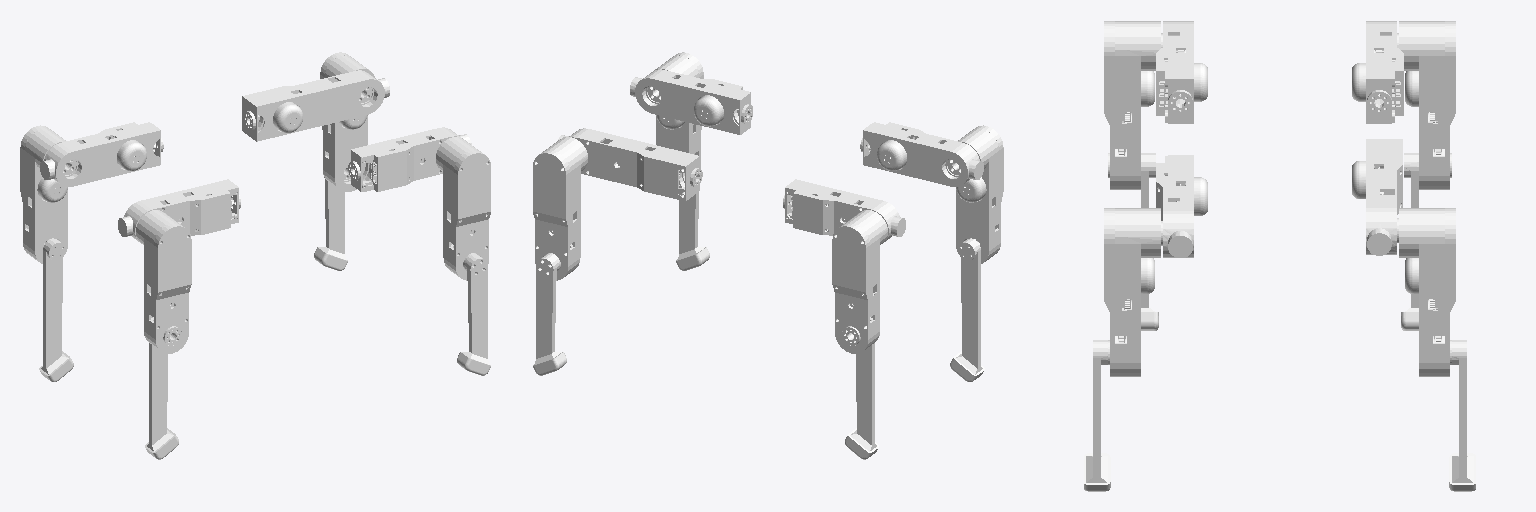
robot.urdf — quad:
<?xml version="1.0" encoding="utf-8"?>
<!-- This URDF was automatically created by SolidWorks to URDF Exporter! Originally created by Stephen Brawner (brawner@gmail.com) 
     Commit Version: 1.6.0-4-g7f85cfe  Build Version: 1.6.7995.38578
     For more information, please see http://wiki.ros.org/sw_urdf_exporter -->
<robot
  name="quad">
  <link
    name="body">
    <inertial>
      <origin
        xyz="0.0119136125020121 -0.0446594666650345 0.0624999999996797"
        rpy="0 0 0" />
      <mass
        value="2.38478530150357" />
      <inertia
        ixx="0.00598681030721035"
        ixy="2.63434309472512E-05"
        ixz="-9.01980987549905E-05"
        iyy="0.00728291695959716"
        iyz="-1.82080520289269E-17"
        izz="0.00302670062029109" />
    </inertial>
    <visual>
      <origin
        xyz="0 0 0"
        rpy="0 0 0" />
      <geometry>
        <mesh
          filename="package://quad/meshes/body.STL" />
      </geometry>
      <material
        name="">
        <color
          rgba="1 1 1 1" />
      </material>
    </visual>
    <collision>
      <origin
        xyz="0 0 0"
        rpy="0 0 0" />
      <geometry>
        <mesh
          filename="package://quad/meshes/body.STL" />
      </geometry>
    </collision>
  </link>
  <link
    name="fl_thigh">
    <inertial>
      <origin
        xyz="0.139292819513255 0.00235319440952292 -3.0577818958058E-06"
        rpy="0 0 0" />
      <mass
        value="0.32829098650712" />
      <inertia
        ixx="0.000112047683322158"
        ixy="-1.62097882949947E-05"
        ixz="2.09839269866338E-08"
        iyy="0.000847860163744953"
        iyz="5.16343563659286E-10"
        izz="0.000753244083618435" />
    </inertial>
    <visual>
      <origin
        xyz="0 0 0"
        rpy="0 0 0" />
      <geometry>
        <mesh
          filename="package://quad/meshes/fl_thigh.STL" />
      </geometry>
      <material
        name="">
        <color
          rgba="1 1 1 1" />
      </material>
    </visual>
    <collision>
      <origin
        xyz="0 0 0"
        rpy="0 0 0" />
      <geometry>
        <mesh
          filename="package://quad/meshes/fl_thigh.STL" />
      </geometry>
    </collision>
  </link>
  <joint
    name="fl_hip_roll"
    type="revolute">
    <origin
      xyz="0.063 0.055225 -0.04425"
      rpy="0 0 0" />
    <parent
      link="body" />
    <child
      link="fl_thigh" />
    <axis
      xyz="-1 0 0" />
    <limit
      lower="-12.56"
      upper="12.56"
      effort="10"
      velocity="250" />
  </joint>
  <link
    name="fl_calf">
    <inertial>
      <origin
        xyz="-2.7238911096128E-06 0.0780352358767988 -0.0778540126521879"
        rpy="0 0 0" />
      <mass
        value="0.369733221029888" />
      <inertia
        ixx="0.00111379811136972"
        ixy="4.53236441978577E-10"
        ixz="-2.08684607908445E-08"
        iyy="0.00120693430900378"
        iyz="8.65938367597369E-05"
        izz="0.000145627421326542" />
    </inertial>
    <visual>
      <origin
        xyz="0 0 0"
        rpy="0 0 0" />
      <geometry>
        <mesh
          filename="package://quad/meshes/fl_calf.STL" />
      </geometry>
      <material
        name="">
        <color
          rgba="1 1 1 1" />
      </material>
    </visual>
    <collision>
      <origin
        xyz="0 0 0"
        rpy="0 0 0" />
      <geometry>
        <mesh
          filename="package://quad/meshes/fl_calf.STL" />
      </geometry>
    </collision>
  </link>
  <joint
    name="fl_hip_pitch"
    type="revolute">
    <origin
      xyz="0.19925 -0.016 0"
      rpy="0 0 0" />
    <parent
      link="fl_thigh" />
    <child
      link="fl_calf" />
    <axis
      xyz="0 1 0" />
    <limit
      lower="-12.56"
      upper="12.56"
      effort="10"
      velocity="250" />
  </joint>
  <link
    name="fl_foot">
    <inertial>
      <origin
        xyz="-0.00181810973272556 0.0514205807877523 -0.0990956880947121"
        rpy="0 0 0" />
      <mass
        value="0.113203575524731" />
      <inertia
        ixx="0.000259844925102448"
        ixy="-2.89449189486509E-08"
        ixz="2.28109802667937E-06"
        iyy="0.000265395195240856"
        iyz="4.93150132283971E-06"
        izz="1.44096258097618E-05" />
    </inertial>
    <visual>
      <origin
        xyz="0 0 0"
        rpy="0 0 0" />
      <geometry>
        <mesh
          filename="package://quad/meshes/fl_foot.STL" />
      </geometry>
      <material
        name="">
        <color
          rgba="1 1 1 1" />
      </material>
    </visual>
    <collision>
      <origin
        xyz="0 0 0"
        rpy="0 0 0" />
      <geometry>
        <mesh
          filename="package://quad/meshes/fl_foot.STL" />
      </geometry>
    </collision>
  </link>
  <joint
    name="fl_knee_pitch"
    type="revolute">
    <origin
      xyz="0 0.063 -0.15625"
      rpy="0 0 0" />
    <parent
      link="fl_calf" />
    <child
      link="fl_foot" />
    <axis
      xyz="0 1 0" />
    <limit
      lower="-12.56"
      upper="12.56"
      effort="10"
      velocity="250" />
  </joint>
  <link
    name="fr_thigh">
    <inertial>
      <origin
        xyz="0.191292819534755 -0.002353194391847 3.05777767527909E-06"
        rpy="0 0 0" />
      <mass
        value="0.32829098650712" />
      <inertia
        ixx="0.000112047683322157"
        ixy="1.62097882949742E-05"
        ixz="-2.09839269870645E-08"
        iyy="0.000847860163744956"
        iyz="5.16343563640244E-10"
        izz="0.000753244083618437" />
    </inertial>
    <visual>
      <origin
        xyz="0 0 0"
        rpy="0 0 0" />
      <geometry>
        <mesh
          filename="package://quad/meshes/fr_thigh.STL" />
      </geometry>
      <material
        name="">
        <color
          rgba="1 1 1 1" />
      </material>
    </visual>
    <collision>
      <origin
        xyz="0 0 0"
        rpy="0 0 0" />
      <geometry>
        <mesh
          filename="package://quad/meshes/fr_thigh.STL" />
      </geometry>
    </collision>
  </link>
  <joint
    name="fr_hip_roll"
    type="revolute">
    <origin
      xyz="0.011 -0.18022 -0.04425"
      rpy="0 0 0" />
    <parent
      link="body" />
    <child
      link="fr_thigh" />
    <axis
      xyz="1 0 0" />
    <limit
      lower="-12.56"
      upper="12.56"
      effort="10"
      velocity="250" />
  </joint>
  <link
    name="fr_calf">
    <inertial>
      <origin
        xyz="2.72389111022342E-06 -0.0780352358767983 -0.0778540126521887"
        rpy="0 0 0" />
      <mass
        value="0.369733221029888" />
      <inertia
        ixx="0.00111379811136972"
        ixy="4.53236441269978E-10"
        ixz="2.08684607912152E-08"
        iyy="0.00120693430900379"
        iyz="-8.65938367597284E-05"
        izz="0.00014562742132654" />
    </inertial>
    <visual>
      <origin
        xyz="0 0 0"
        rpy="0 0 0" />
      <geometry>
        <mesh
          filename="package://quad/meshes/fr_calf.STL" />
      </geometry>
      <material
        name="">
        <color
          rgba="1 1 1 1" />
      </material>
    </visual>
    <collision>
      <origin
        xyz="0 0 0"
        rpy="0 0 0" />
      <geometry>
        <mesh
          filename="package://quad/meshes/fr_calf.STL" />
      </geometry>
    </collision>
  </link>
  <joint
    name="fr_hip_pitch"
    type="revolute">
    <origin
      xyz="0.25125 0.016 0"
      rpy="0 0 0" />
    <parent
      link="fr_thigh" />
    <child
      link="fr_calf" />
    <axis
      xyz="0 -1 0" />
    <limit
      lower="-12.56"
      upper="12.56"
      effort="10"
      velocity="250" />
  </joint>
  <link
    name="fr_foot">
    <inertial>
      <origin
        xyz="-0.00181810973272406 -0.0514205807877514 -0.0990956880947124"
        rpy="0 0 0" />
      <mass
        value="0.113203575524731" />
      <inertia
        ixx="0.000259844925102448"
        ixy="2.8944918948476E-08"
        ixz="2.28109802667943E-06"
        iyy="0.000265395195240856"
        iyz="-4.93150132283772E-06"
        izz="1.44096258097618E-05" />
    </inertial>
    <visual>
      <origin
        xyz="0 0 0"
        rpy="0 0 0" />
      <geometry>
        <mesh
          filename="package://quad/meshes/fr_foot.STL" />
      </geometry>
      <material
        name="">
        <color
          rgba="1 1 1 1" />
      </material>
    </visual>
    <collision>
      <origin
        xyz="0 0 0"
        rpy="0 0 0" />
      <geometry>
        <mesh
          filename="package://quad/meshes/fr_foot.STL" />
      </geometry>
    </collision>
  </link>
  <joint
    name="fr_knee_pitch"
    type="revolute">
    <origin
      xyz="0 -0.063 -0.15625"
      rpy="0 0 0" />
    <parent
      link="fr_calf" />
    <child
      link="fr_foot" />
    <axis
      xyz="0 -1 0" />
    <limit
      lower="-12.56"
      upper="12.56"
      effort="10"
      velocity="250" />
  </joint>
  <link
    name="bl_thigh">
    <inertial>
      <origin
        xyz="-0.191292819512864 0.00235319440921456 3.05778219460151E-06"
        rpy="0 0 0" />
      <mass
        value="0.32829098650712" />
      <inertia
        ixx="0.000112047683322158"
        ixy="1.62097882949869E-05"
        ixz="2.09839269868708E-08"
        iyy="0.000847860163744954"
        iyz="-5.16343562876247E-10"
        izz="0.000753244083618435" />
    </inertial>
    <visual>
      <origin
        xyz="0 0 0"
        rpy="0 0 0" />
      <geometry>
        <mesh
          filename="package://quad/meshes/bl_thigh.STL" />
      </geometry>
      <material
        name="">
        <color
          rgba="1 1 1 1" />
      </material>
    </visual>
    <collision>
      <origin
        xyz="0 0 0"
        rpy="0 0 0" />
      <geometry>
        <mesh
          filename="package://quad/meshes/bl_thigh.STL" />
      </geometry>
    </collision>
  </link>
  <joint
    name="bl_hip_roll"
    type="revolute">
    <origin
      xyz="-0.011 0.055225 -0.04425"
      rpy="0 0 0" />
    <parent
      link="body" />
    <child
      link="bl_thigh" />
    <axis
      xyz="-1 0 0" />
    <limit
      lower="-12.56"
      upper="12.56"
      effort="10"
      velocity="250" />
  </joint>
  <link
    name="bl_calf">
    <inertial>
      <origin
        xyz="-2.72389110878013E-06 0.0780352358767989 -0.0778540126521881"
        rpy="0 0 0" />
      <mass
        value="0.369733221029887" />
      <inertia
        ixx="0.00111379811136972"
        ixy="4.53236442890163E-10"
        ixz="-2.08684607895667E-08"
        iyy="0.00120693430900378"
        iyz="8.65938367597368E-05"
        izz="0.000145627421326541" />
    </inertial>
    <visual>
      <origin
        xyz="0 0 0"
        rpy="0 0 0" />
      <geometry>
        <mesh
          filename="package://quad/meshes/bl_calf.STL" />
      </geometry>
      <material
        name="">
        <color
          rgba="1 1 1 1" />
      </material>
    </visual>
    <collision>
      <origin
        xyz="0 0 0"
        rpy="0 0 0" />
      <geometry>
        <mesh
          filename="package://quad/meshes/bl_calf.STL" />
      </geometry>
    </collision>
  </link>
  <joint
    name="bl_hip_pitch"
    type="revolute">
    <origin
      xyz="-0.25125 -0.016 0"
      rpy="0 0 0" />
    <parent
      link="bl_thigh" />
    <child
      link="bl_calf" />
    <axis
      xyz="0 1 0" />
    <limit
      lower="-12.56"
      upper="12.56"
      effort="10"
      velocity="250" />
  </joint>
  <link
    name="bl_foot">
    <inertial>
      <origin
        xyz="0.00181810973272589 0.0514205807877523 -0.099095688094712"
        rpy="0 0 0" />
      <mass
        value="0.113203575524731" />
      <inertia
        ixx="0.000259844925102448"
        ixy="2.89449189485631E-08"
        ixz="-2.28109802667802E-06"
        iyy="0.000265395195240856"
        iyz="4.93150132283975E-06"
        izz="1.44096258097618E-05" />
    </inertial>
    <visual>
      <origin
        xyz="0 0 0"
        rpy="0 0 0" />
      <geometry>
        <mesh
          filename="package://quad/meshes/bl_foot.STL" />
      </geometry>
      <material
        name="">
        <color
          rgba="1 1 1 1" />
      </material>
    </visual>
    <collision>
      <origin
        xyz="0 0 0"
        rpy="0 0 0" />
      <geometry>
        <mesh
          filename="package://quad/meshes/bl_foot.STL" />
      </geometry>
    </collision>
  </link>
  <joint
    name="bl_knee_pitch"
    type="revolute">
    <origin
      xyz="0 0.063 -0.15625"
      rpy="0 0 0" />
    <parent
      link="bl_calf" />
    <child
      link="bl_foot" />
    <axis
      xyz="0 1 0" />
    <limit
      lower="-12.56"
      upper="12.56"
      effort="10"
      velocity="250" />
  </joint>
  <link
    name="br_thigh">
    <inertial>
      <origin
        xyz="-0.139292819513355 -0.00235319440952178 -3.05778189590294E-06"
        rpy="0 0 0" />
      <mass
        value="0.32829098650712" />
      <inertia
        ixx="0.000112047683322158"
        ixy="-1.62097882949917E-05"
        ixz="-2.09839269872183E-08"
        iyy="0.000847860163744955"
        iyz="-5.16343562904267E-10"
        izz="0.000753244083618437" />
    </inertial>
    <visual>
      <origin
        xyz="0 0 0"
        rpy="0 0 0" />
      <geometry>
        <mesh
          filename="package://quad/meshes/br_thigh.STL" />
      </geometry>
      <material
        name="">
        <color
          rgba="1 1 1 1" />
      </material>
    </visual>
    <collision>
      <origin
        xyz="0 0 0"
        rpy="0 0 0" />
      <geometry>
        <mesh
          filename="package://quad/meshes/br_thigh.STL" />
      </geometry>
    </collision>
  </link>
  <joint
    name="br_hip_roll"
    type="revolute">
    <origin
      xyz="-0.063 -0.18022 -0.04425"
      rpy="0 0 0" />
    <parent
      link="body" />
    <child
      link="br_thigh" />
    <axis
      xyz="1 0 0" />
    <limit
      lower="-12.56"
      upper="12.56"
      effort="10"
      velocity="250" />
  </joint>
  <link
    name="br_calf">
    <inertial>
      <origin
        xyz="2.72389110939075E-06 -0.0780352358767982 -0.0778540126521884"
        rpy="0 0 0" />
      <mass
        value="0.369733221029888" />
      <inertia
        ixx="0.00111379811136972"
        ixy="4.53236442281271E-10"
        ixz="2.08684607900274E-08"
        iyy="0.00120693430900379"
        iyz="-8.65938367597283E-05"
        izz="0.000145627421326539" />
    </inertial>
    <visual>
      <origin
        xyz="0 0 0"
        rpy="0 0 0" />
      <geometry>
        <mesh
          filename="package://quad/meshes/br_calf.STL" />
      </geometry>
      <material
        name="">
        <color
          rgba="1 1 1 1" />
      </material>
    </visual>
    <collision>
      <origin
        xyz="0 0 0"
        rpy="0 0 0" />
      <geometry>
        <mesh
          filename="package://quad/meshes/br_calf.STL" />
      </geometry>
    </collision>
  </link>
  <joint
    name="br_hip_pitch"
    type="revolute">
    <origin
      xyz="-0.19925 0.016 0"
      rpy="0 0 0" />
    <parent
      link="br_thigh" />
    <child
      link="br_calf" />
    <axis
      xyz="0 -1 0" />
    <limit
      lower="-12.56"
      upper="12.56"
      effort="10"
      velocity="250" />
  </joint>
  <link
    name="br_foot">
    <inertial>
      <origin
        xyz="0.00181810973272523 -0.0514205807877515 -0.0990956880947125"
        rpy="0 0 0" />
      <mass
        value="0.113203575524731" />
      <inertia
        ixx="0.000259844925102448"
        ixy="-2.89449189486164E-08"
        ixz="-2.28109802667958E-06"
        iyy="0.000265395195240856"
        iyz="-4.93150132283774E-06"
        izz="1.44096258097617E-05" />
    </inertial>
    <visual>
      <origin
        xyz="0 0 0"
        rpy="0 0 0" />
      <geometry>
        <mesh
          filename="package://quad/meshes/br_foot.STL" />
      </geometry>
      <material
        name="">
        <color
          rgba="1 1 1 1" />
      </material>
    </visual>
    <collision>
      <origin
        xyz="0 0 0"
        rpy="0 0 0" />
      <geometry>
        <mesh
          filename="package://quad/meshes/br_foot.STL" />
      </geometry>
    </collision>
  </link>
  <joint
    name="br_knee_pitch"
    type="revolute">
    <origin
      xyz="0 -0.063 -0.15625"
      rpy="0 0 0" />
    <parent
      link="br_calf" />
    <child
      link="br_foot" />
    <axis
      xyz="0 -1 0" />
    <limit
      lower="-12.56"
      upper="12.56"
      effort="10"
      velocity="250" />
  </joint>
</robot>

--- What the picture shows (computed from the rendered views, not written in the file) ---
Views: 3 orthographic renders of the robot side by side, from view 1: azimuth 30°, elevation 25°; view 2: azimuth 150°, elevation 25°; view 3: azimuth 270°, elevation 25°.
Robot: quad — 13 links, 12 joints (12 revolute); root link body; default pose: every joint at zero.
Links seen in each view (by area): view 1: fl_thigh, br_calf, fr_calf, bl_thigh, bl_calf, fr_thigh, br_thigh, fl_calf, bl_foot, fr_foot, br_foot, fl_foot; view 2: bl_calf, fl_calf, fl_thigh, br_thigh, fr_thigh, br_calf, bl_thigh, br_foot, fl_foot, bl_foot, fr_calf, fr_foot; view 3: fl_calf, fr_calf, bl_calf, br_calf, fl_thigh, bl_thigh, br_thigh, fr_thigh, fl_foot, fr_foot, bl_foot, br_foot.
Link boxes in pixels (x1,y1,x2,y2): fl_thigh: [242, 70, 389, 141]; br_calf: [136, 210, 191, 353]; fr_calf: [436, 137, 490, 280]; bl_thigh: [40, 122, 163, 186]; bl_calf: [20, 125, 67, 263]; fr_thigh: [348, 127, 471, 191]; br_thigh: [118, 179, 240, 241]; fl_calf: [320, 52, 375, 191]; bl_foot: [39, 238, 73, 381]; fr_foot: [457, 254, 490, 375]; br_foot: [145, 343, 178, 459]; fl_foot: [314, 177, 347, 270]; bl_calf: [832, 210, 887, 353]; fl_calf: [533, 137, 587, 280]; fl_thigh: [558, 128, 702, 201]; br_thigh: [860, 122, 983, 186]; fr_thigh: [630, 69, 752, 134]; br_calf: [956, 125, 1003, 263]; bl_thigh: [783, 179, 905, 241]; br_foot: [950, 238, 984, 381]; fl_foot: [533, 254, 566, 375]; bl_foot: [845, 343, 878, 459]; fr_calf: [654, 52, 703, 168]; fr_foot: [676, 192, 709, 270]; fl_calf: [1399, 208, 1455, 376]; fr_calf: [1104, 208, 1160, 376]; bl_calf: [1399, 21, 1455, 189]; br_calf: [1104, 21, 1160, 189]; fl_thigh: [1352, 139, 1402, 255]; bl_thigh: [1352, 21, 1403, 123]; br_thigh: [1156, 21, 1207, 123]; fr_thigh: [1156, 155, 1207, 257]; fl_foot: [1449, 340, 1475, 491]; fr_foot: [1084, 340, 1110, 491]; bl_foot: [1401, 153, 1418, 330]; br_foot: [1141, 153, 1158, 330].
Size in the robot's own frame: 0.603 by 0.4654 by 0.4031 metres.
Meshes: 13 distinct files referenced, 12 mesh visuals loaded (12 binary STL); not drawn: 1 (reference not matched to a file when rendering).
